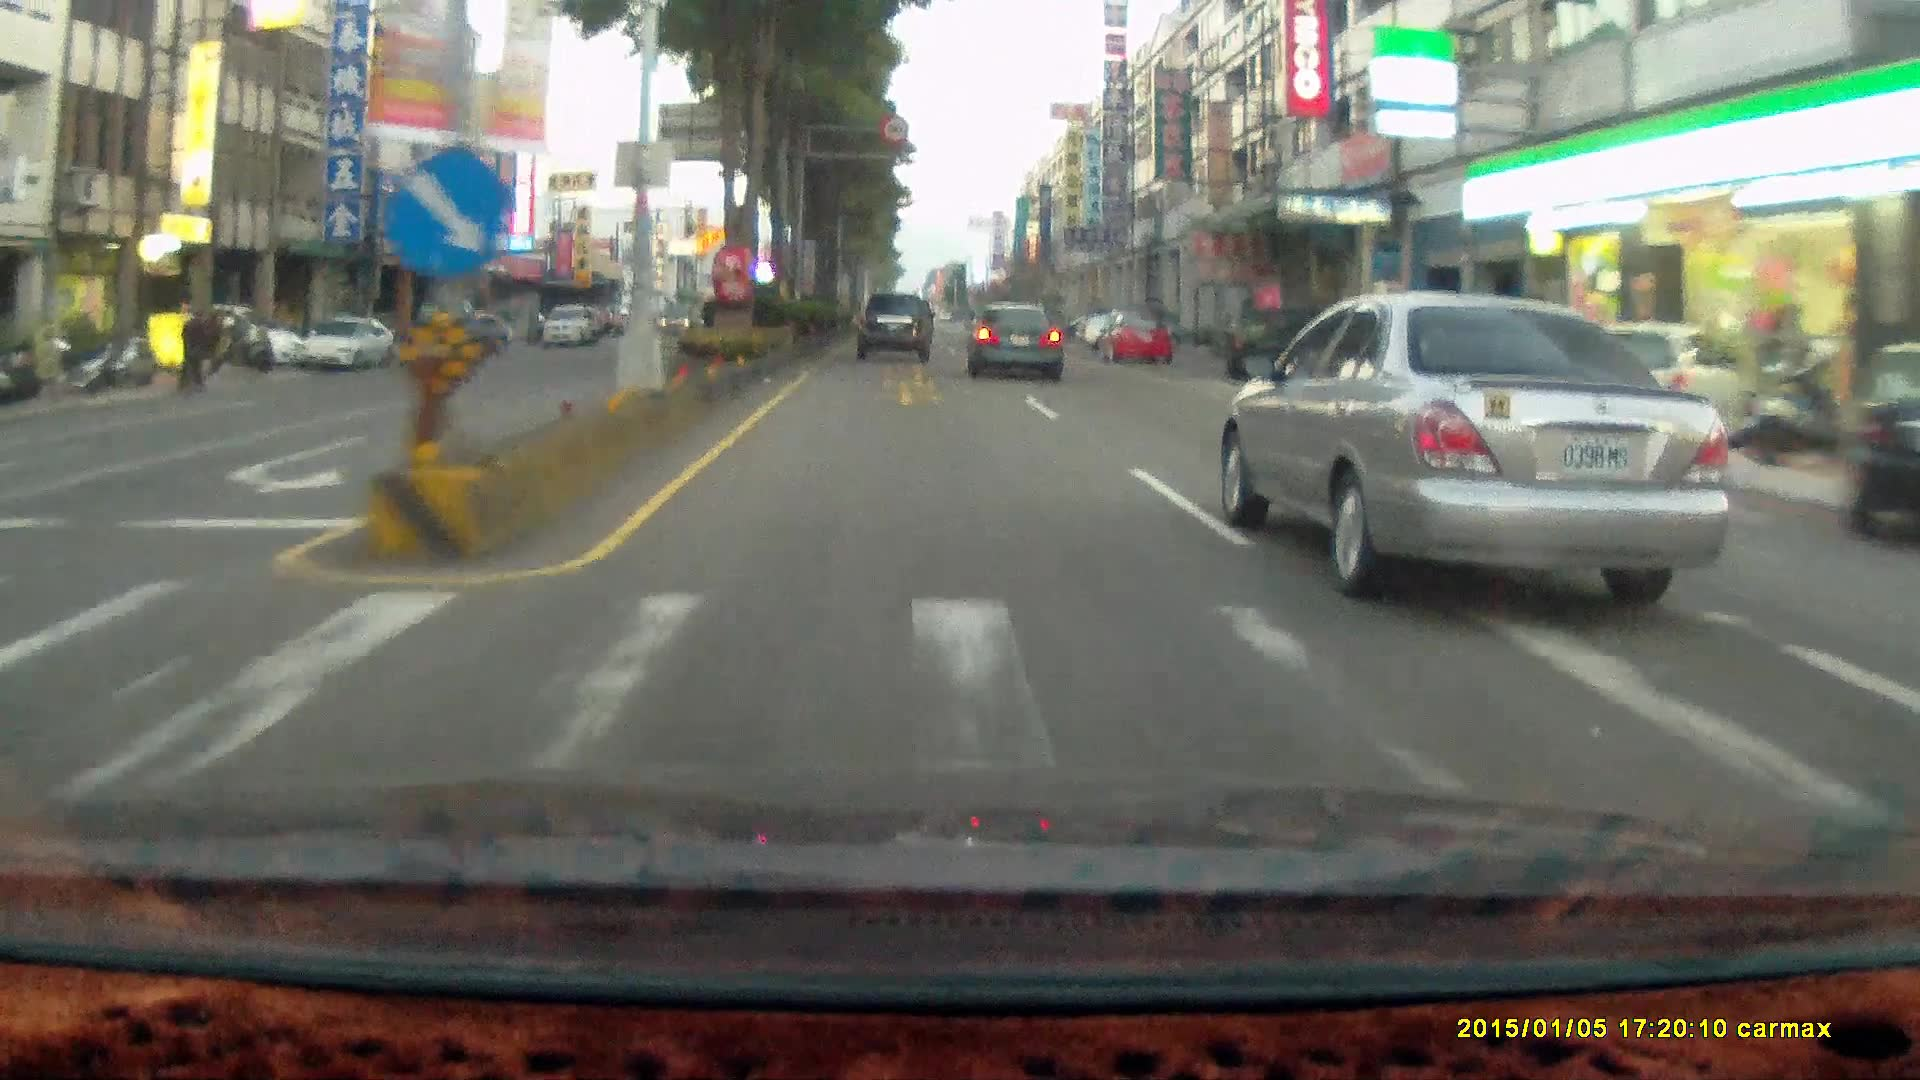pedestrian: (182, 302, 214, 390), (179, 307, 210, 393)
vehicle: (1227, 286, 1734, 590), (1560, 318, 1751, 465), (1370, 316, 1541, 433), (1842, 340, 1920, 547), (1844, 338, 1920, 542), (1237, 308, 1393, 384), (1221, 300, 1376, 376), (172, 298, 299, 365), (967, 301, 1065, 382), (964, 304, 1062, 380), (292, 313, 399, 374), (416, 289, 511, 356), (855, 293, 937, 365), (856, 290, 933, 360), (295, 313, 395, 366), (412, 299, 493, 363), (1097, 302, 1177, 363), (1094, 308, 1168, 362), (543, 303, 597, 349)
